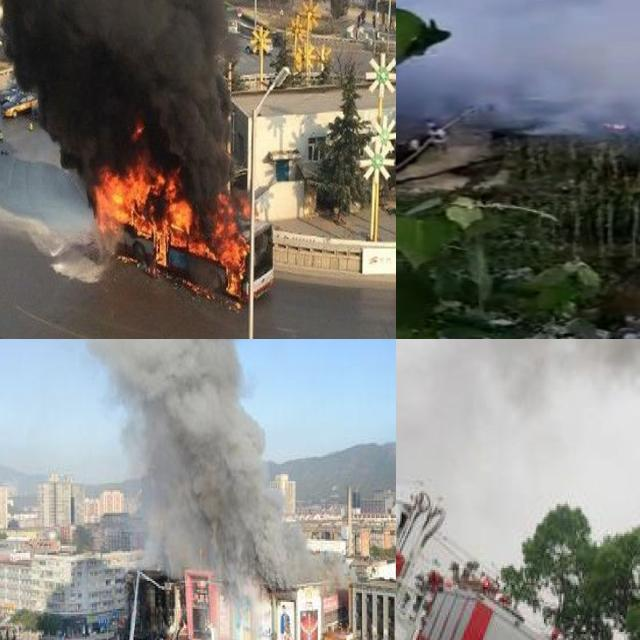fire: (93, 133, 251, 304)
smoke: (51, 339, 336, 590), (0, 0, 261, 199), (396, 0, 640, 130), (419, 339, 640, 424)
